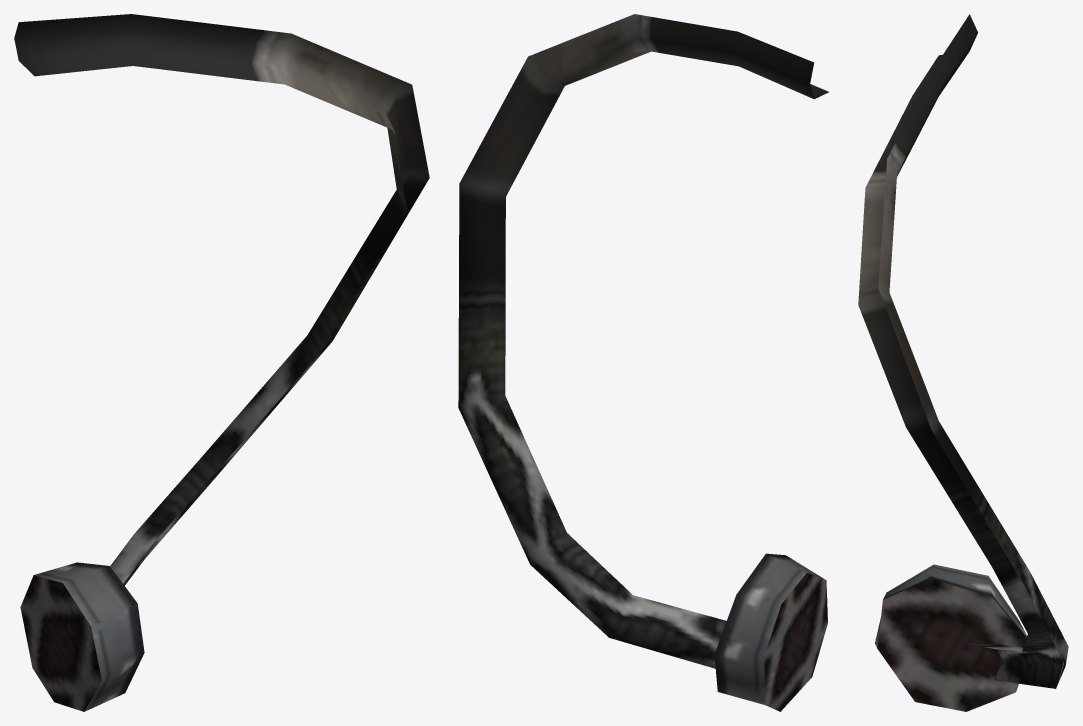
File: p_glo_briefcase_bomb_hose_a.glb
3 views of the same model, side by side, from view 1: azimuth 30°, elevation 25°; view 2: azimuth 150°, elevation 25°; view 3: azimuth 270°, elevation 25° (orthographic). The views are drawn at different scales.
Parts seen in each view (by area): view 1: p_glo_briefcase_bomb_hose_a; view 2: p_glo_briefcase_bomb_hose_a; view 3: p_glo_briefcase_bomb_hose_a.
Part boxes in pixels (x1,y1,x2,y2): p_glo_briefcase_bomb_hose_a: [14, 14, 429, 711]; p_glo_briefcase_bomb_hose_a: [458, 14, 828, 711]; p_glo_briefcase_bomb_hose_a: [858, 14, 1068, 711].
Size of the model in its own units: 0.0856 by 0.144 by 0.041.
1 material, 1 textured.
